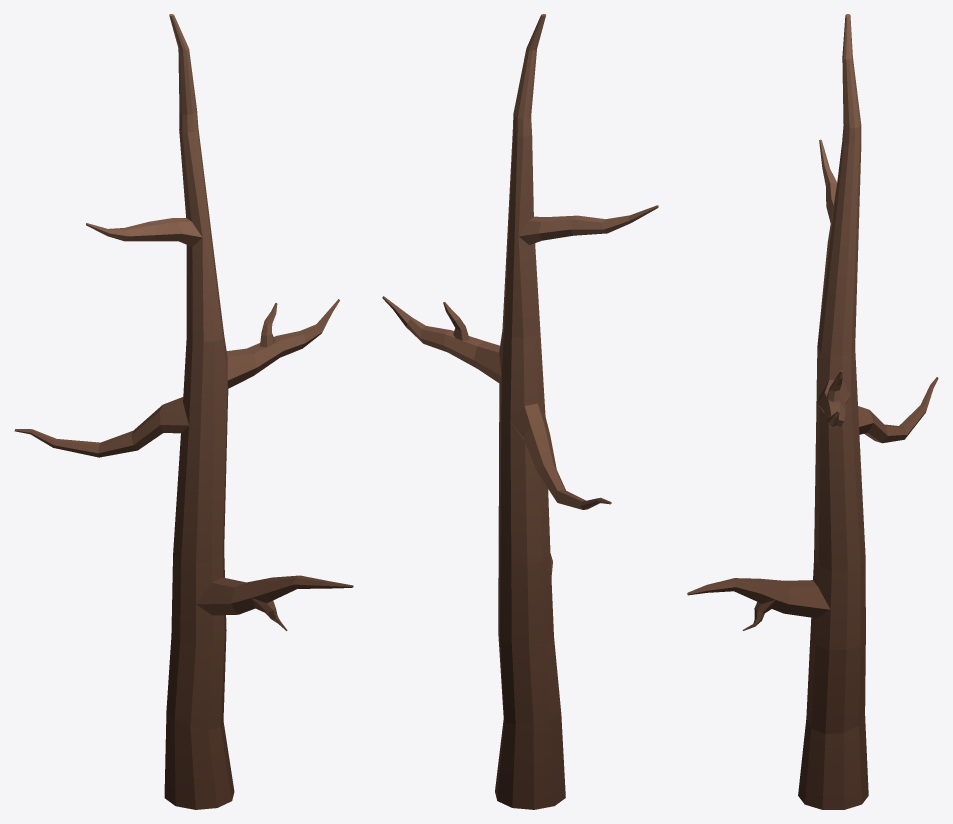
Rendered from drzewo6.fbx.
3 renders of one model, left to right at view 1: azimuth 30°, elevation 25°; view 2: azimuth 150°, elevation 25°; view 3: azimuth 270°, elevation 25°, orthographic. The views are drawn at different scales.
Visible parts, largest first — view 1: Circle.001; view 2: Circle.001; view 3: Circle.001.
Boxes of the visible parts, <box> form: Circle.001: <box>14,14,353,809</box>; Circle.001: <box>382,14,658,809</box>; Circle.001: <box>687,14,938,809</box>.
Size of the model in its own units: 177 by 479 by 141.
